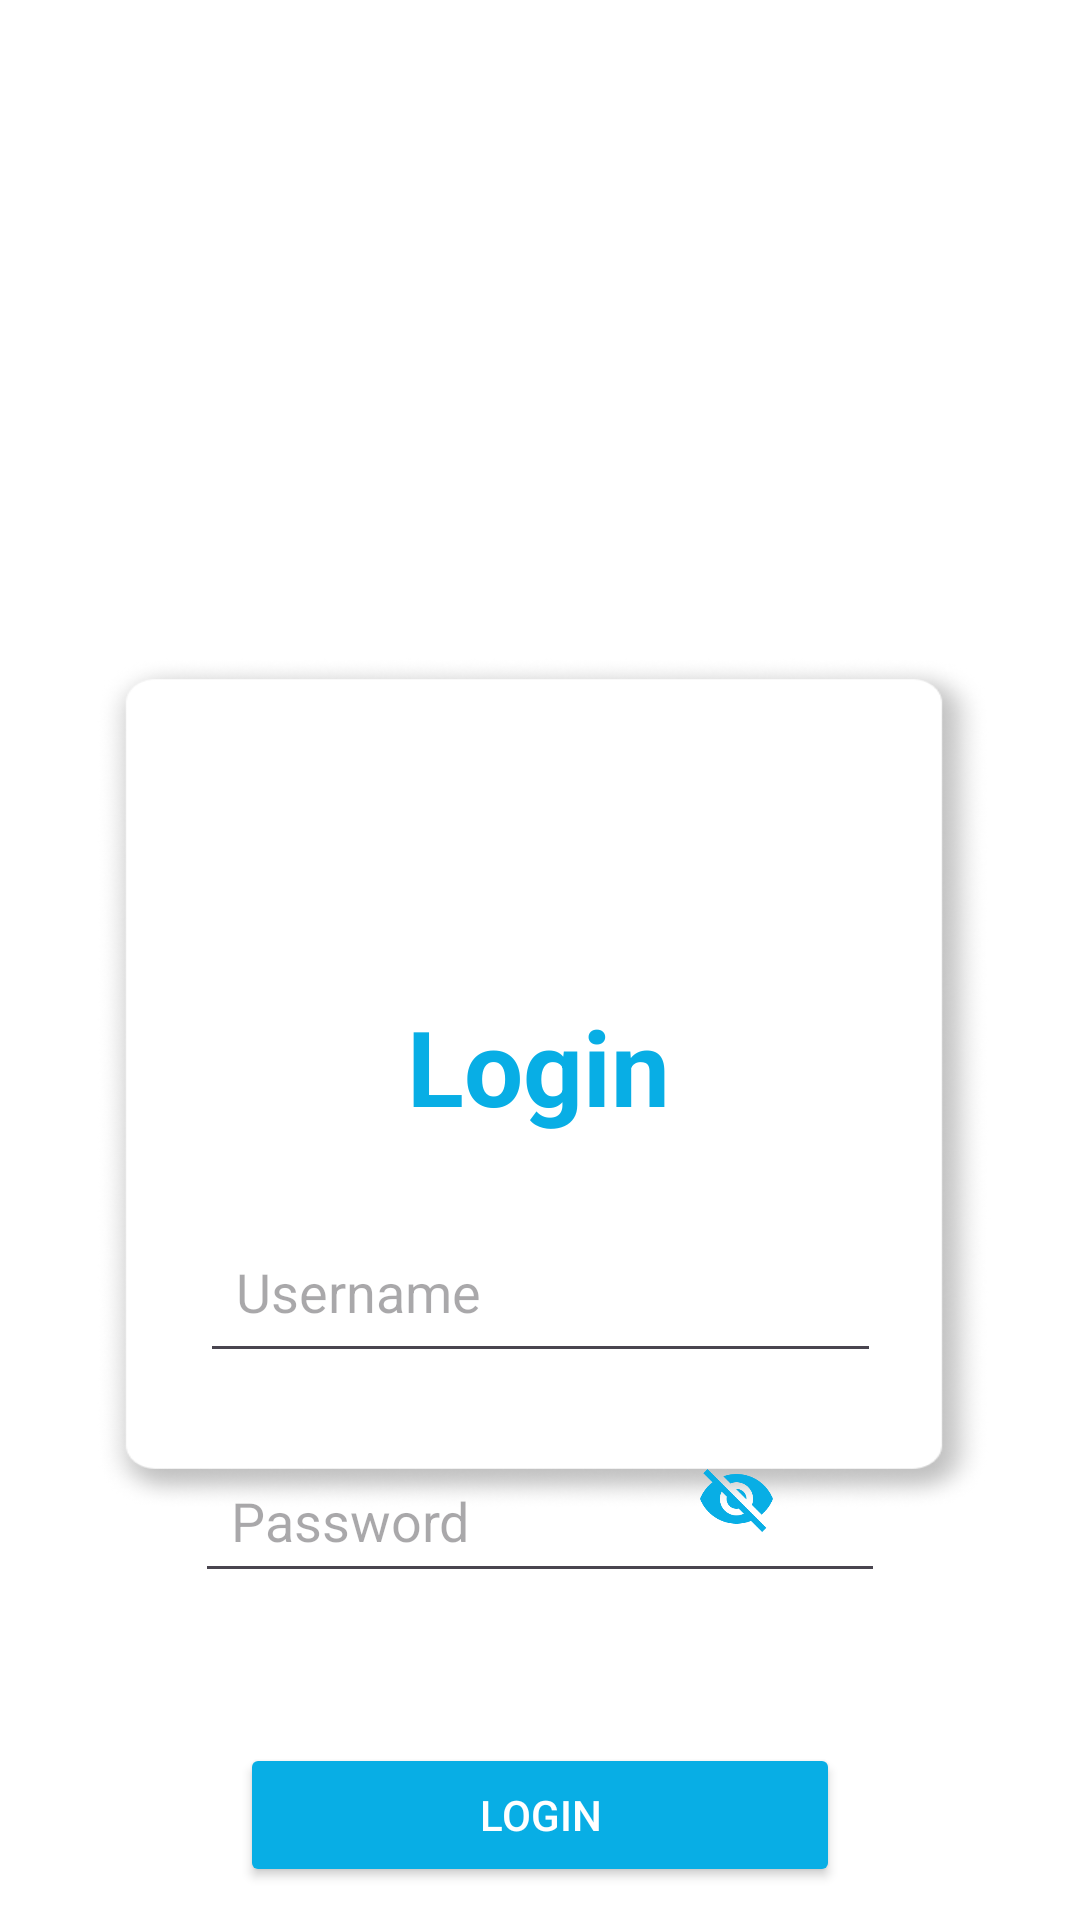

Named icons in this screenshot (1080*1920) and their bounding boxes, (x1,y1,x2,y2):
hideon: (693,1469,780,1532)
